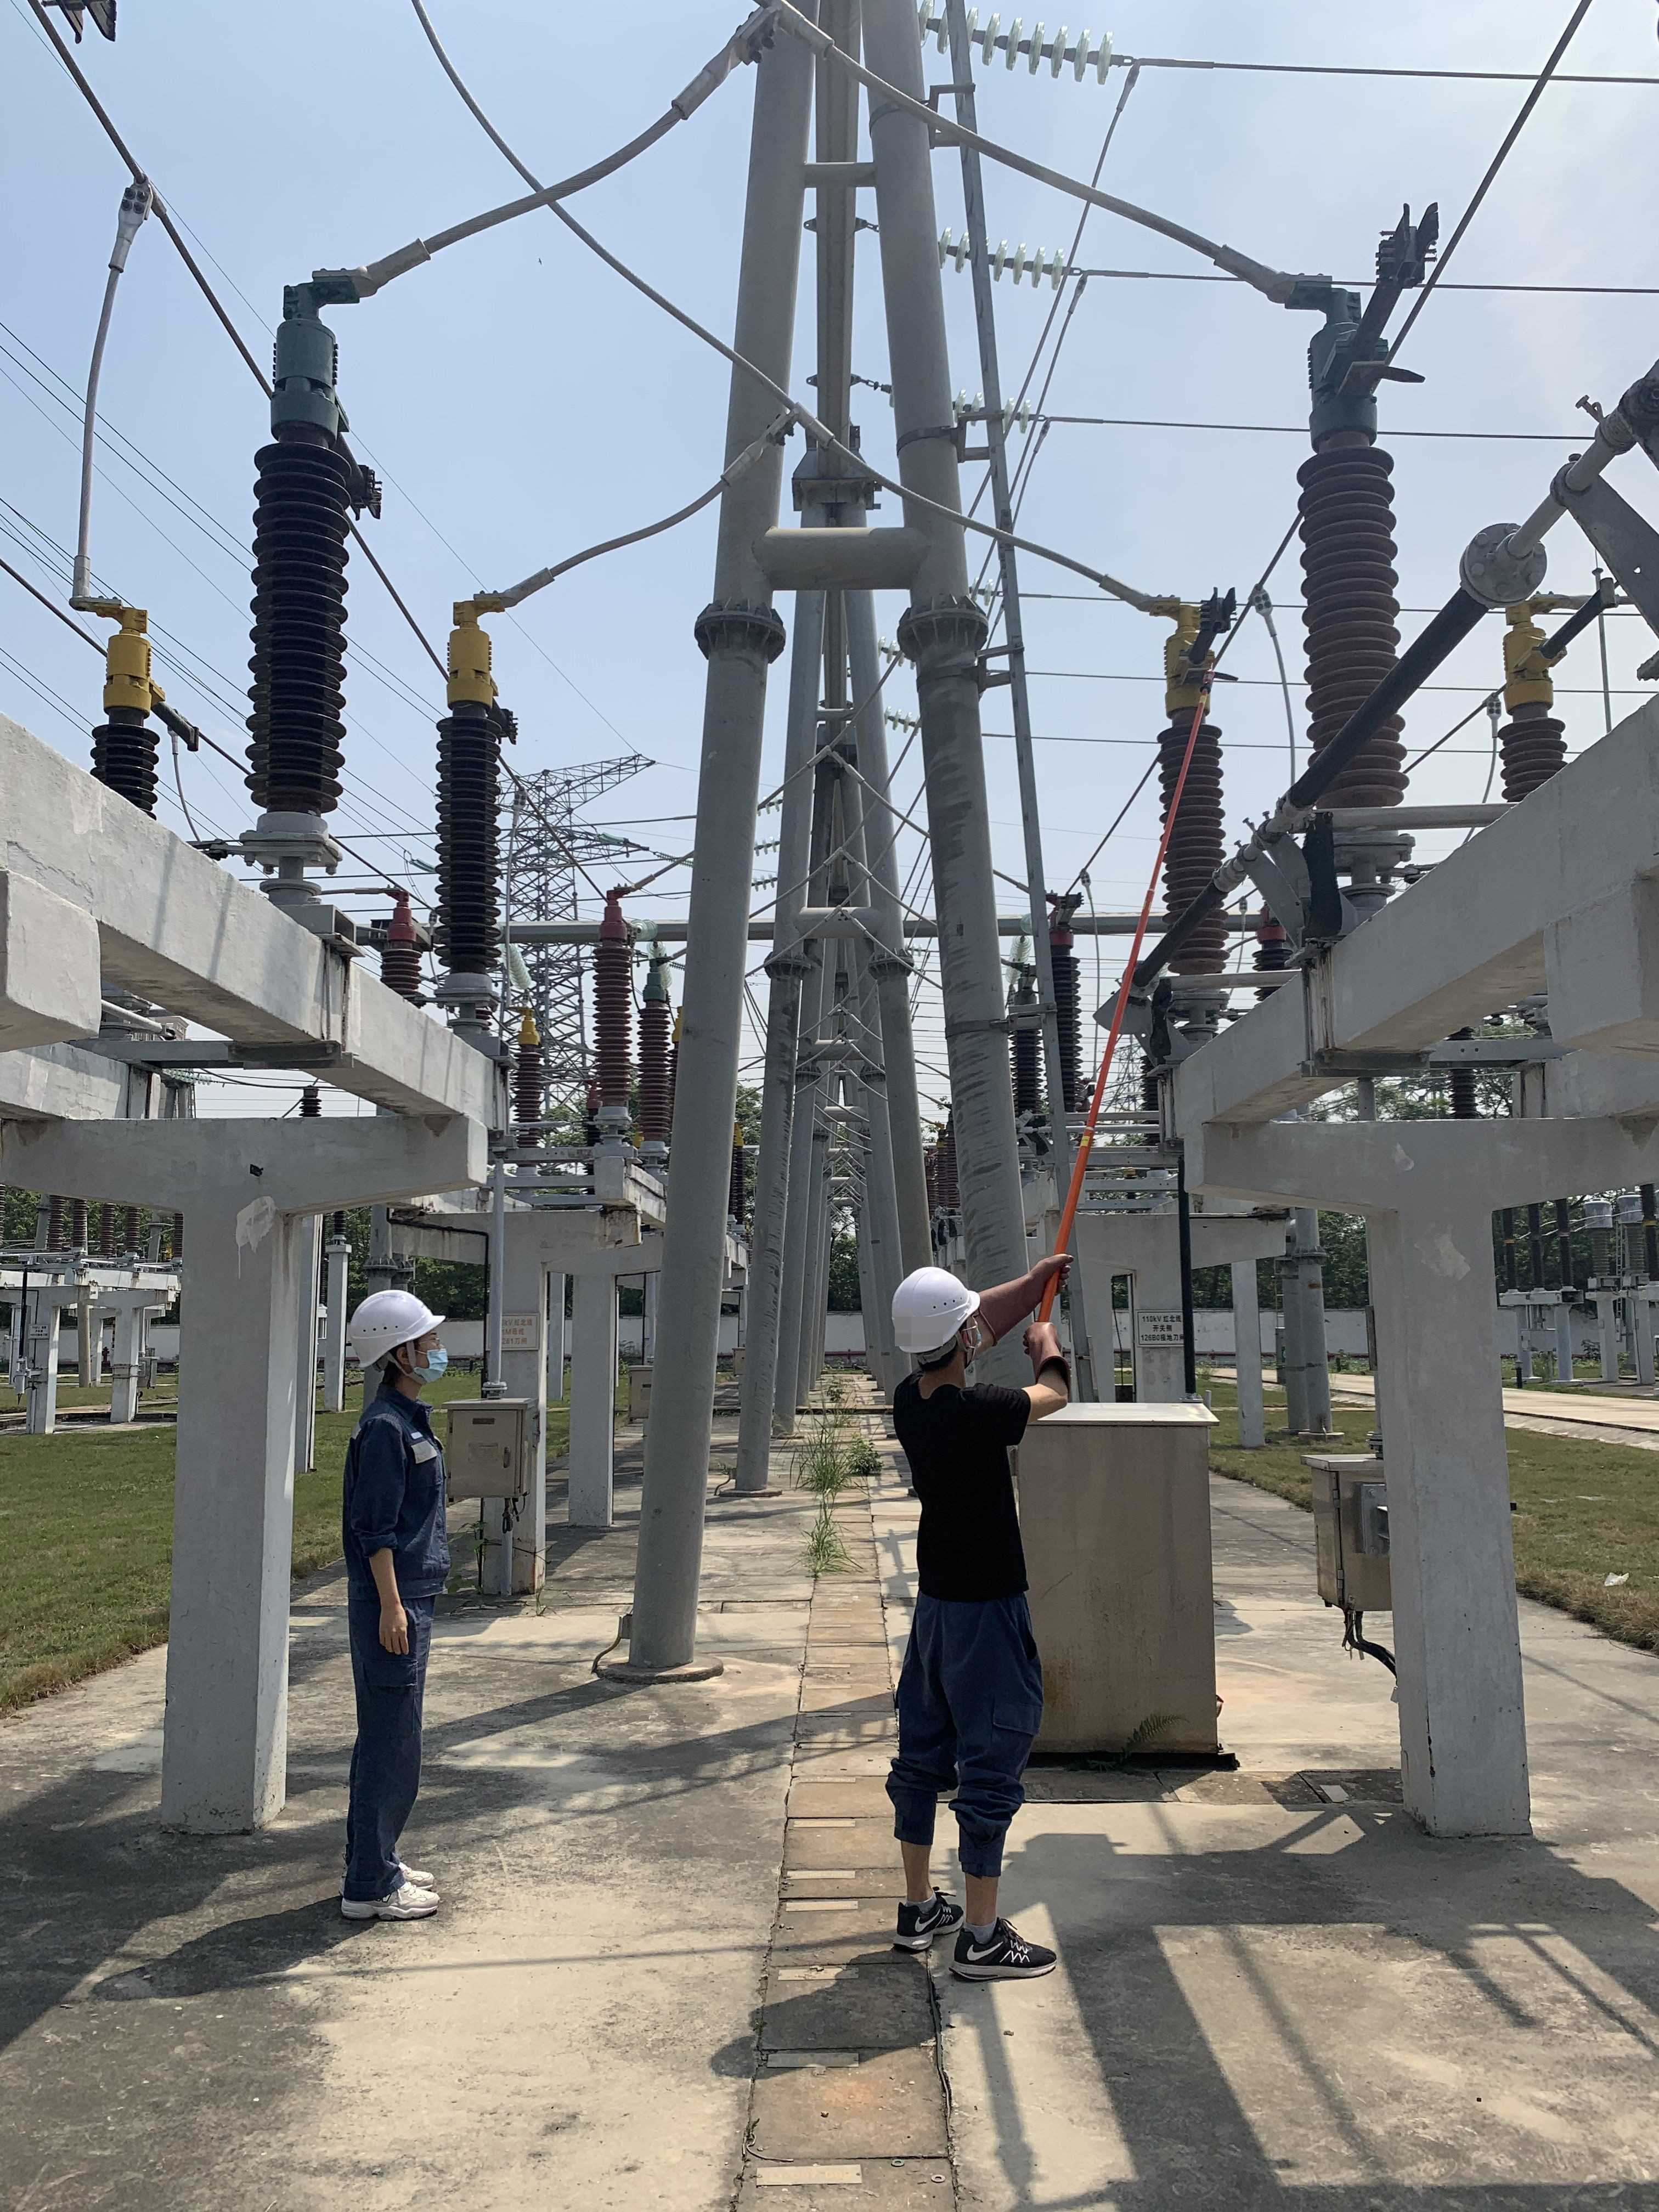downsuit: (880, 1588, 1053, 1860), (343, 1627, 430, 1893)
upcloth: (890, 1381, 1047, 1595)
upsuit: (340, 1404, 451, 1606)
wrongbottom: (885, 1766, 1018, 1932)
wrongtop: (359, 1534, 410, 1656)
